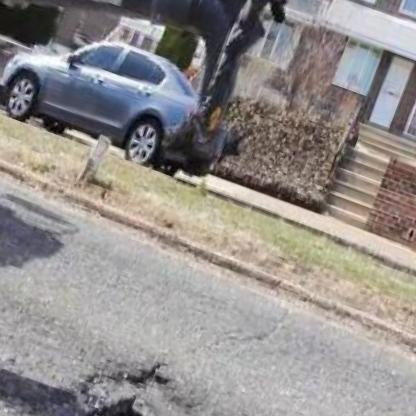pothole: (50, 337, 209, 416)
